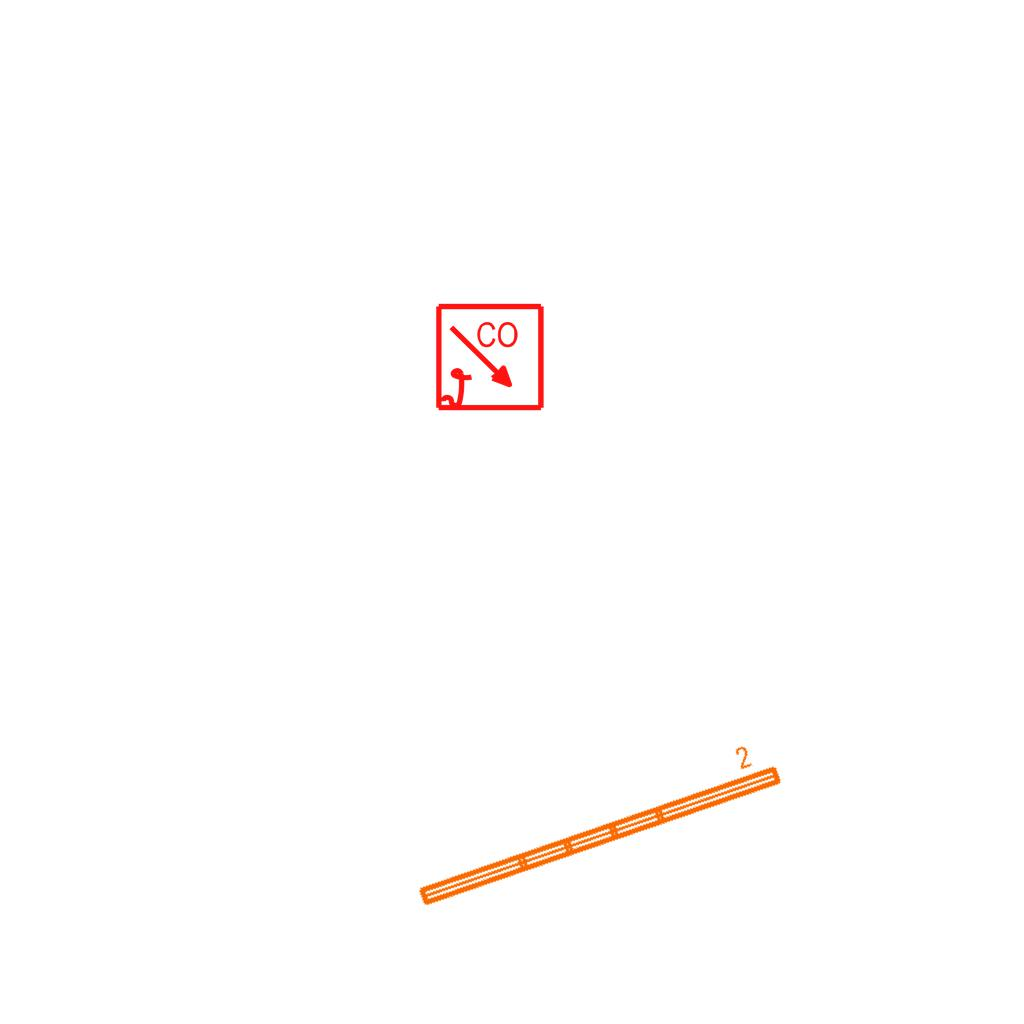Ambulanz_Pendelleuchte_LED: (403, 734, 788, 914)
ROA_Rauchmelder_optisch_mit_Signalgeber_(Sockelsirene): (434, 302, 547, 415)
